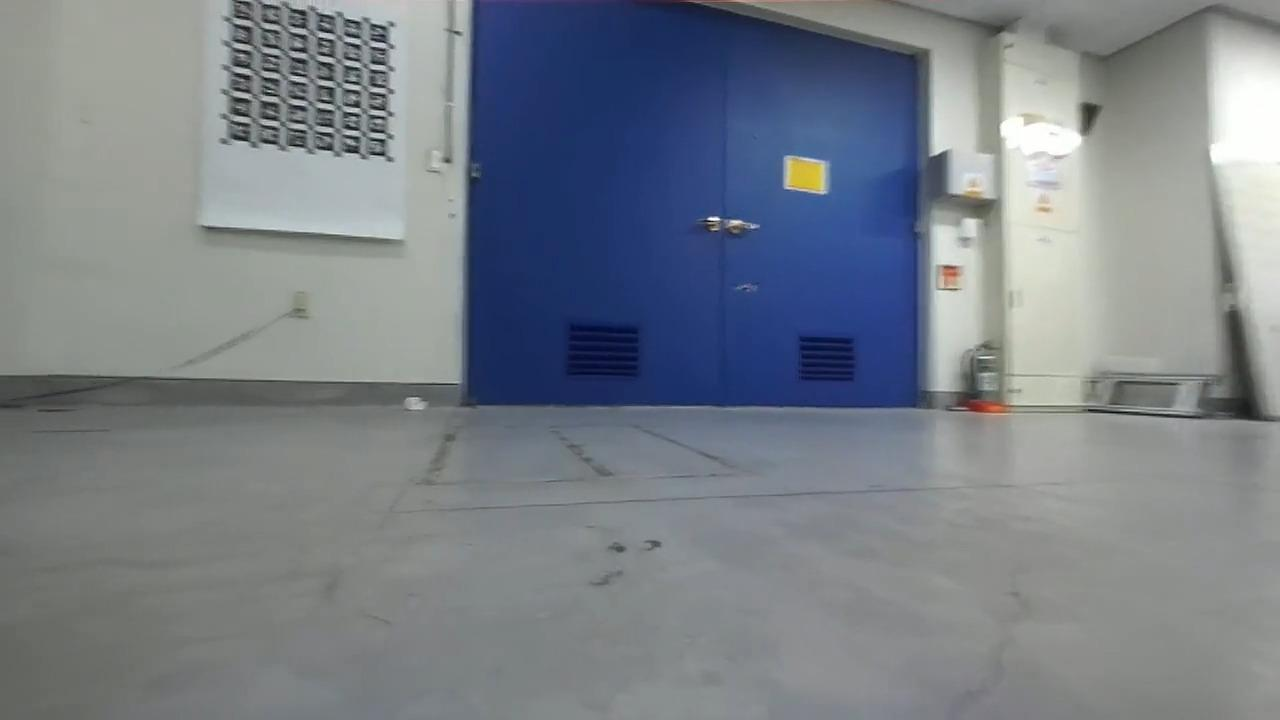crazyflie: (718, 276, 772, 300)
